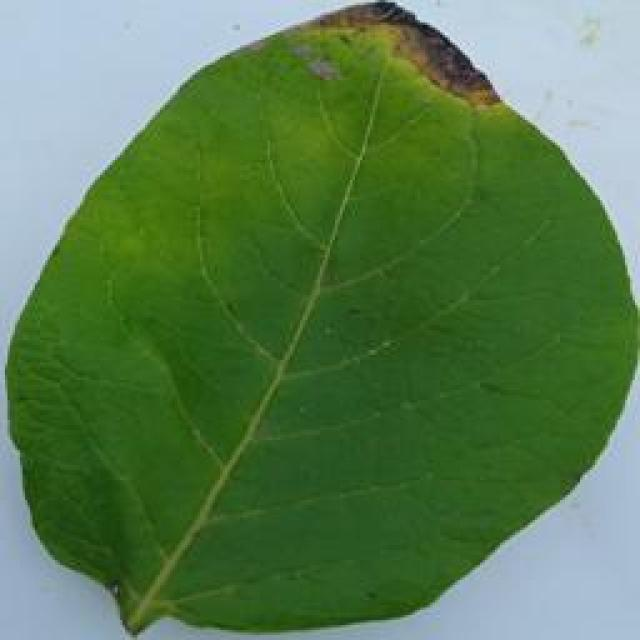Potato_Late_Blight: (9, 8, 626, 638)
